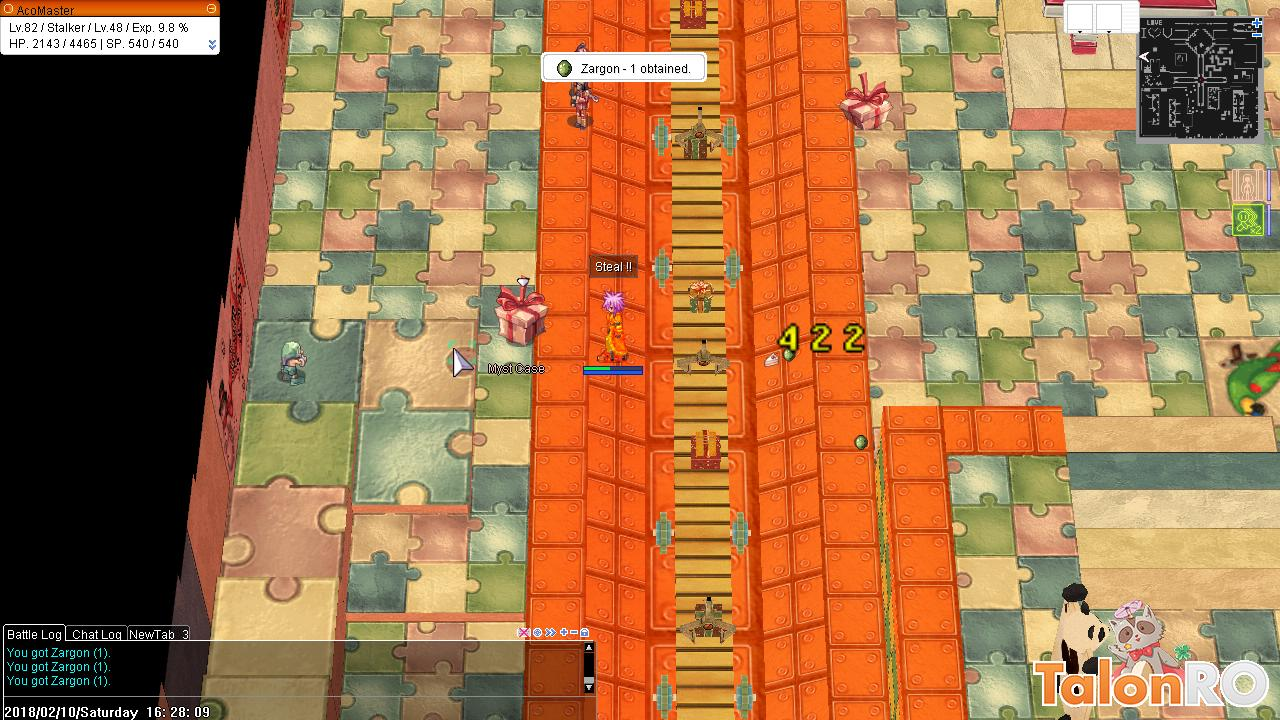loot: (851, 431, 869, 453), (761, 350, 778, 369)
mob: (569, 85, 590, 138)
myst_case: (490, 279, 559, 349), (834, 68, 890, 135)
